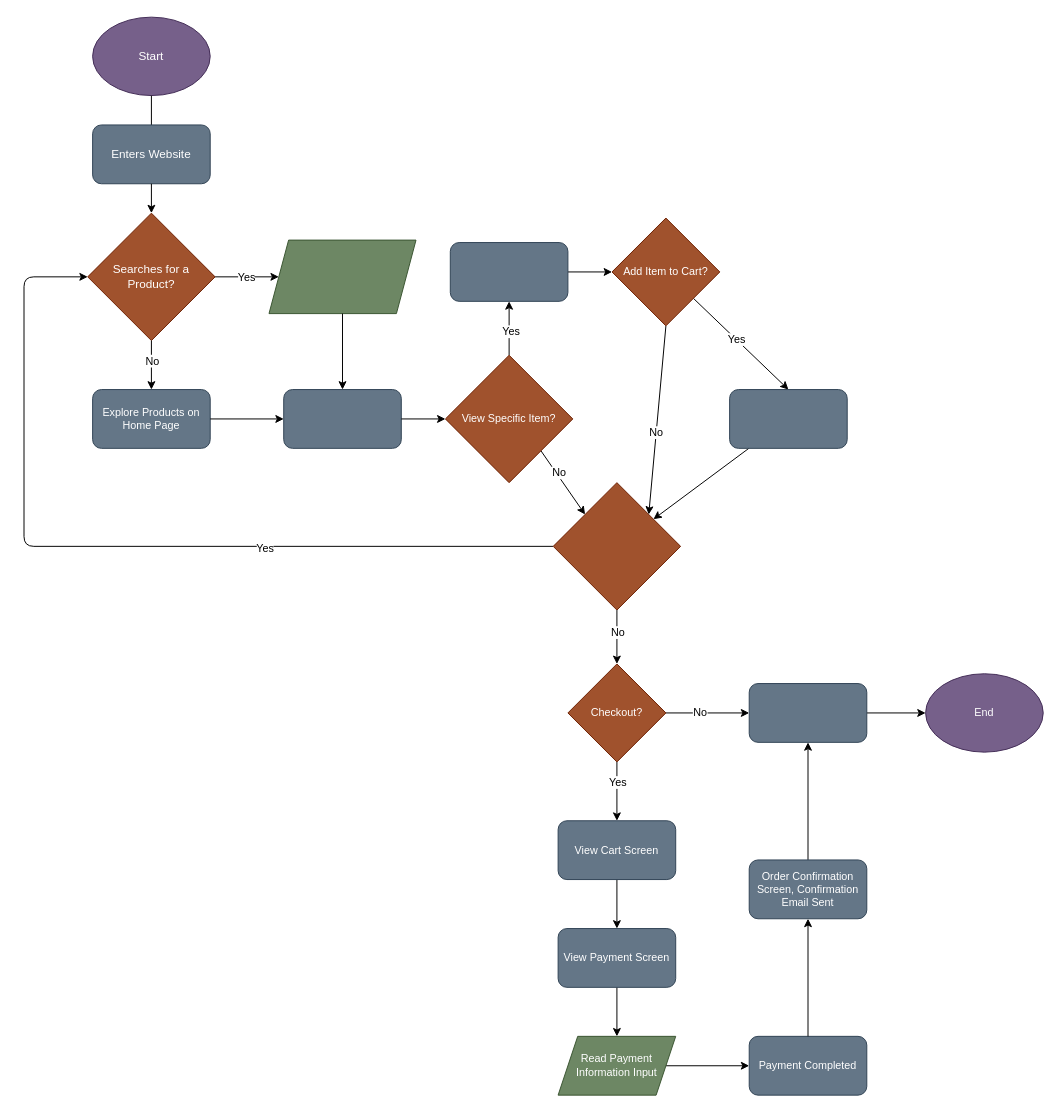
This 1060x1112 diagram has some shape labels left out. Each missing label, with the centre of its shape:
"Add to Cart Confirmation" goes at point (788, 418).
"Continue Shopping?" goes at point (616, 546).
"Leave Website" goes at point (807, 712).
"Look Over Products" goes at point (342, 418).
"Product Webpage Opens" goes at point (508, 271).
"Read Search Input" goes at point (342, 276).
